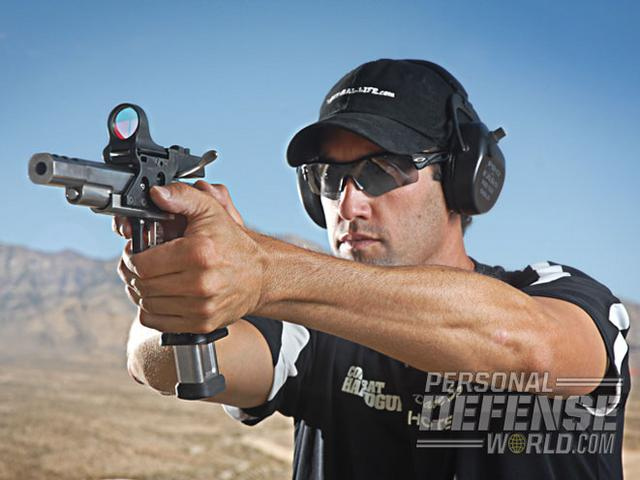pistol: (28, 151, 231, 398)
